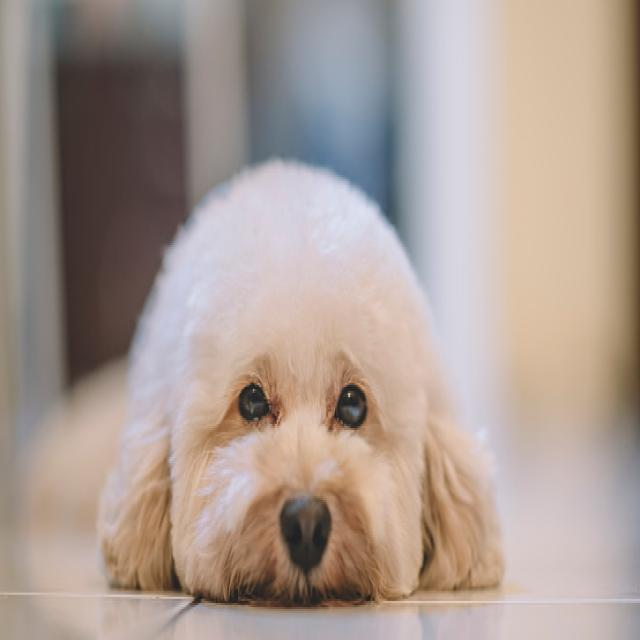poodle: (91, 111, 508, 622)
